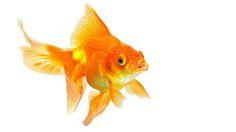goldfish: (49, 22, 173, 113)
